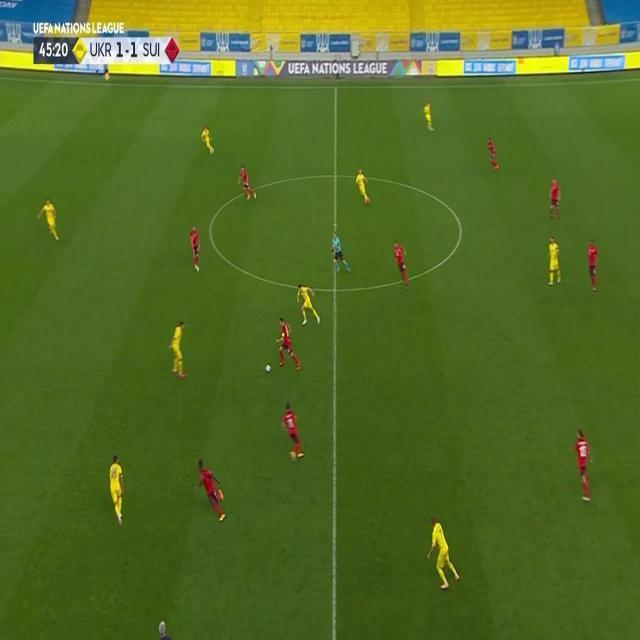ball: (265, 363, 271, 373)
player: (424, 516, 460, 593), (196, 459, 227, 525), (572, 427, 594, 505), (280, 399, 305, 461), (275, 318, 301, 373), (167, 319, 187, 379), (295, 283, 321, 328), (108, 454, 124, 527), (36, 198, 62, 241), (393, 240, 411, 290), (546, 236, 562, 286), (586, 238, 600, 295), (238, 164, 257, 202), (354, 168, 371, 206), (548, 177, 562, 222), (189, 225, 202, 272), (486, 137, 500, 171), (201, 125, 216, 156), (423, 101, 435, 131)
referee: (330, 229, 350, 274)
